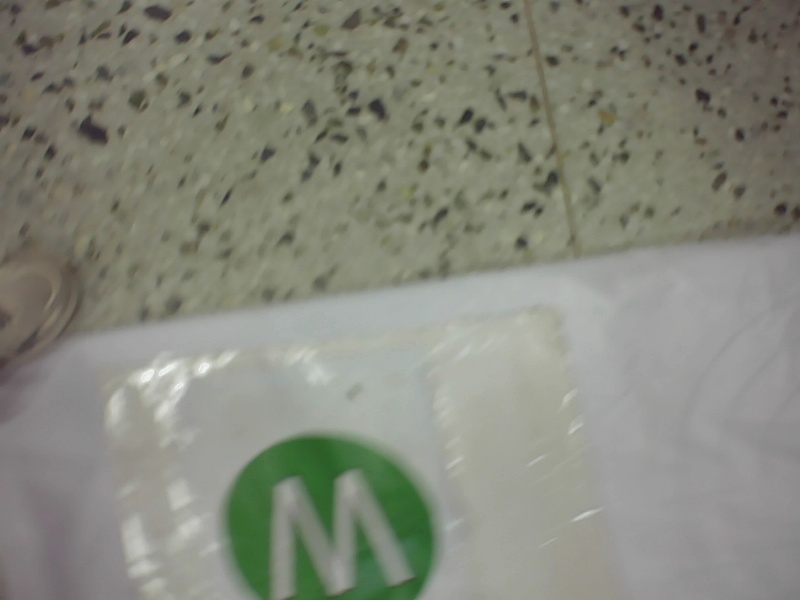areaB: (211, 428, 445, 599)
